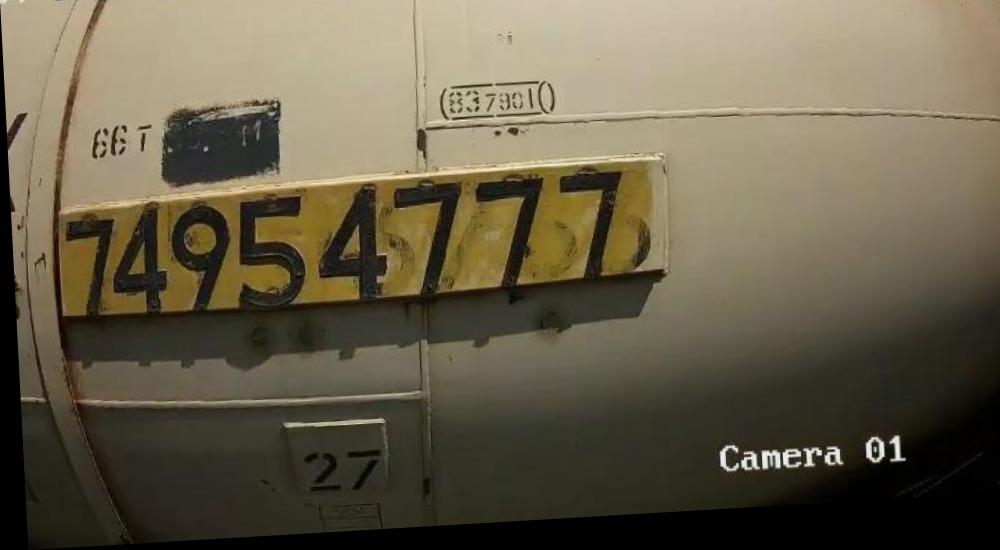Wagon-number: (55, 169, 635, 321)
